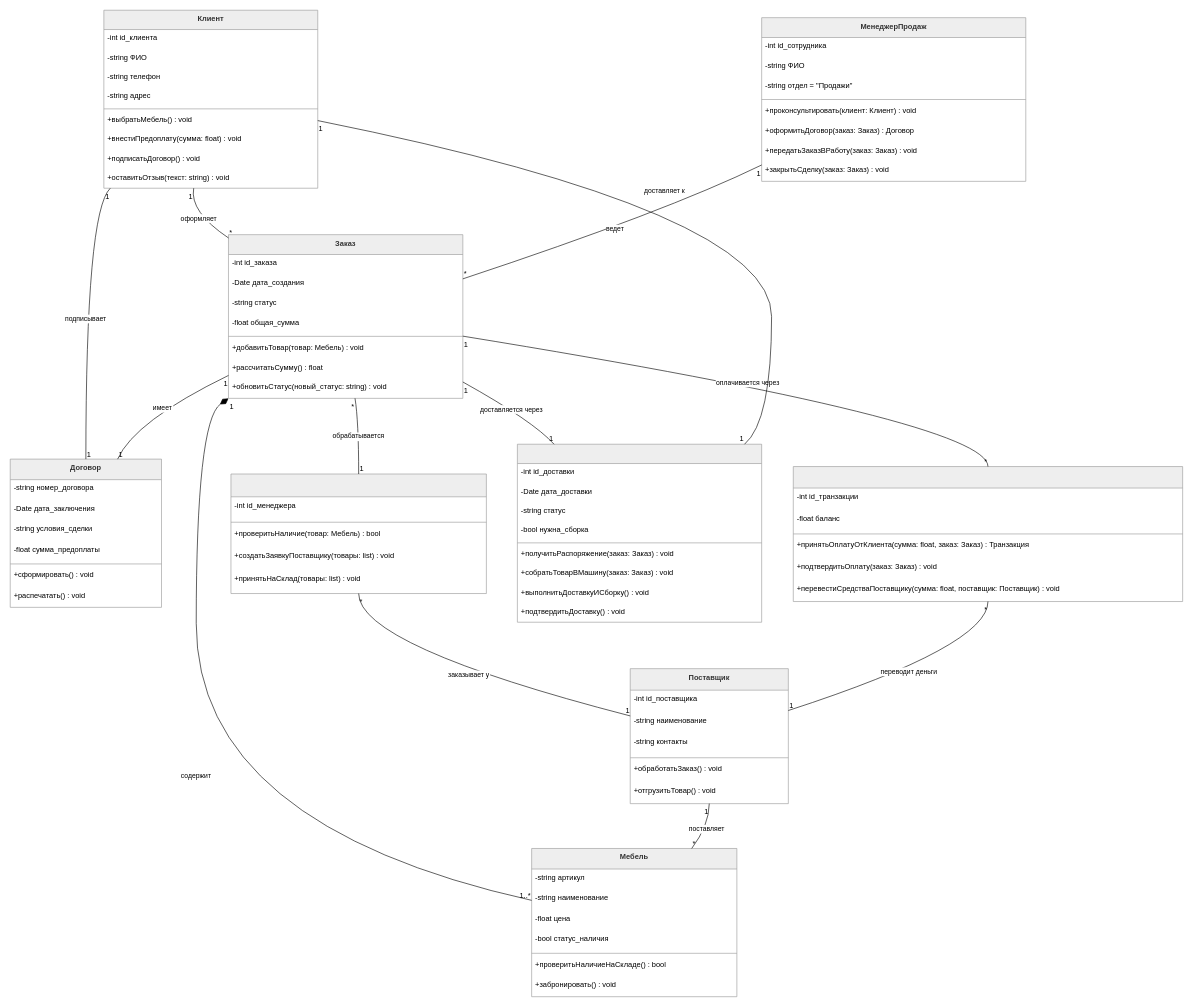
Image size: 1193x1007. Some labels were removed from this diagram. Each missing label, with the box of its shape:
Логистика: (517, 444, 762, 622)
Снабжение: (230, 473, 486, 594)
Финансы: (793, 466, 1183, 602)
